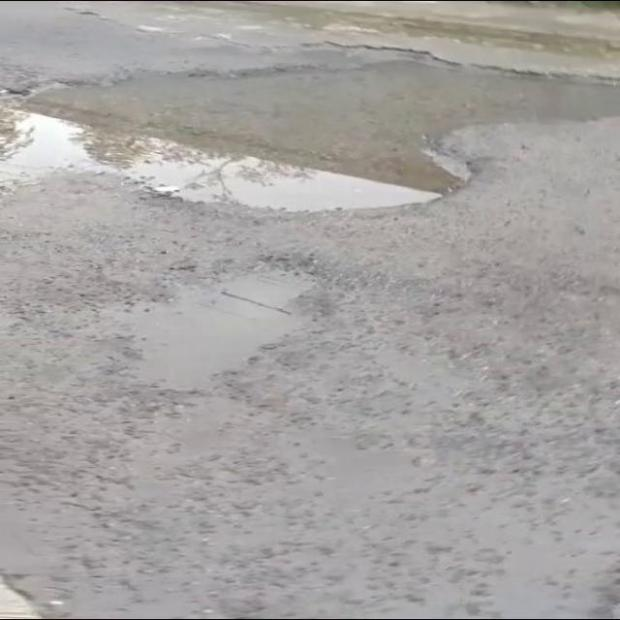lubang: (0, 0, 619, 210), (108, 253, 355, 388)
